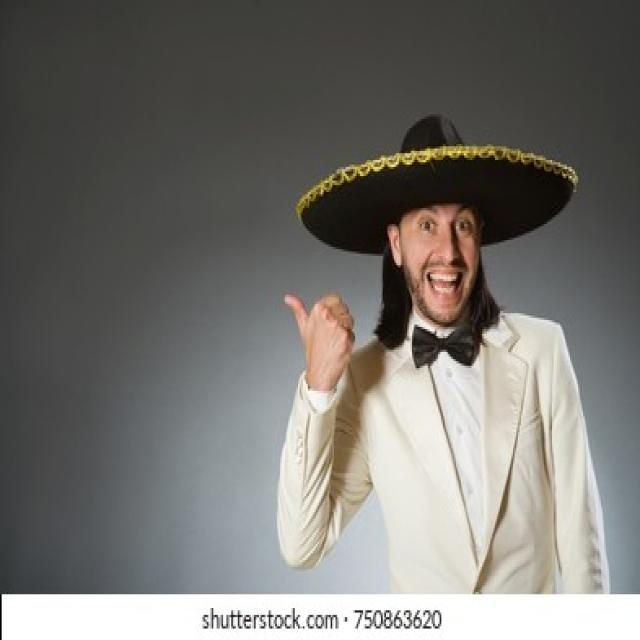hat: (298, 114, 581, 320)
